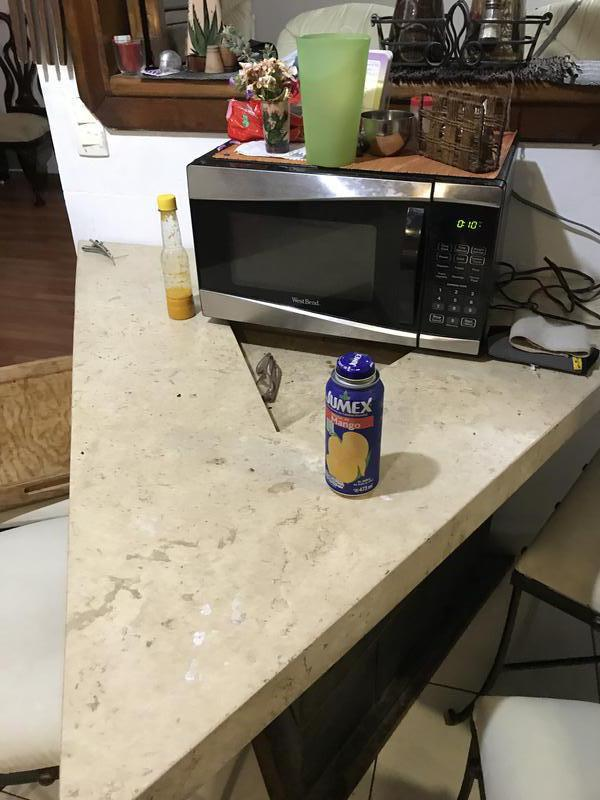jugo_jumex: (326, 349, 385, 498)
